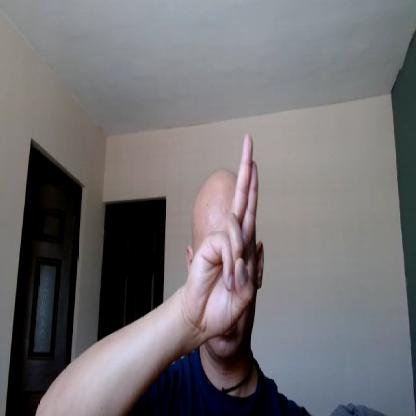U: (188, 132, 258, 338)
